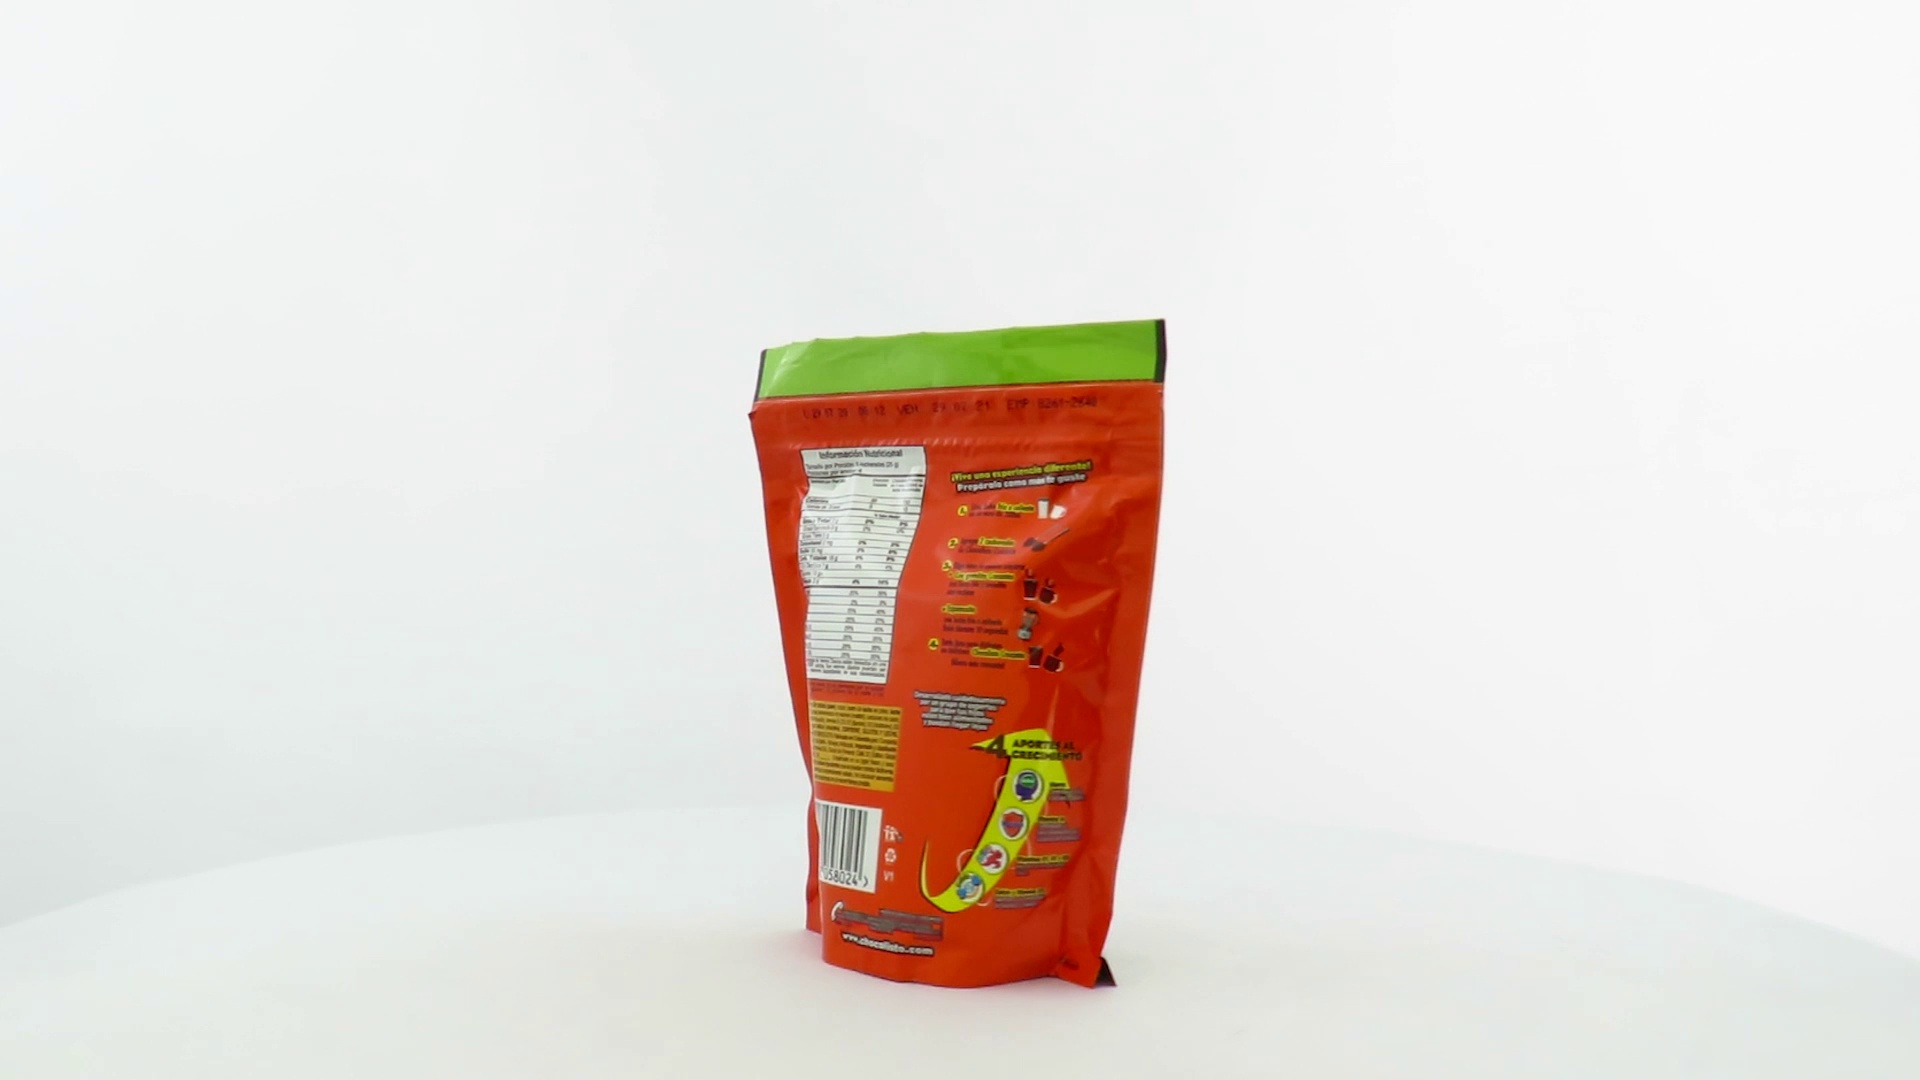COL0170102DYP10000: (742, 314, 1174, 996)
